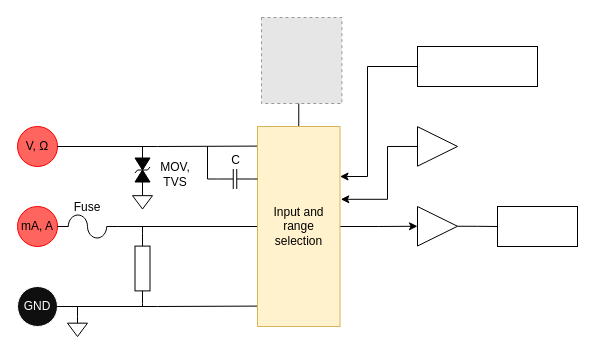
This 595x354 diagram has some shape labels left out. Grey dashed boxes stand in for pictures. Here are the shapes that lost their labels. From the top down, the centre of each, then its label:
(x=477, y=66): Ohm converter
(x=537, y=226): RMS converter
(x=142, y=268): Shunt
